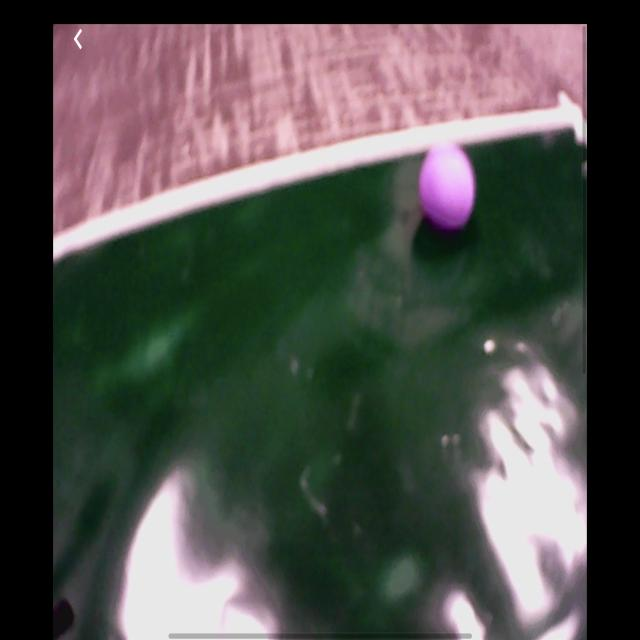ball: (418, 141, 478, 232)
